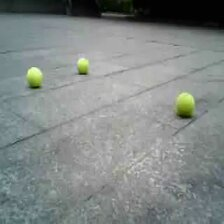tennis: (174, 93, 194, 115), (27, 68, 43, 87), (77, 58, 88, 74)
